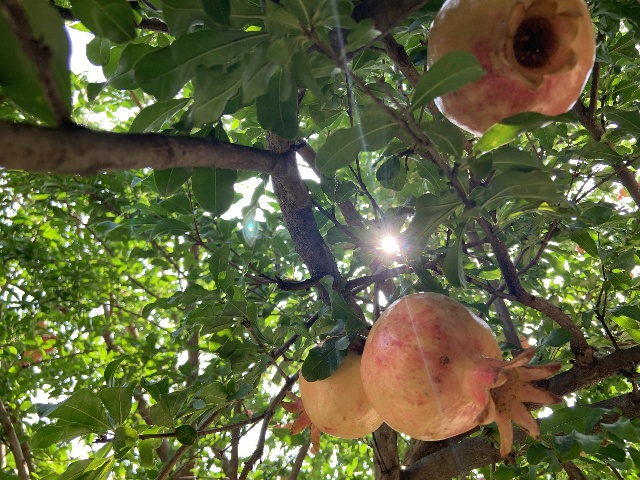ripe: (361, 293, 561, 457), (427, 0, 594, 133), (280, 334, 383, 453)
